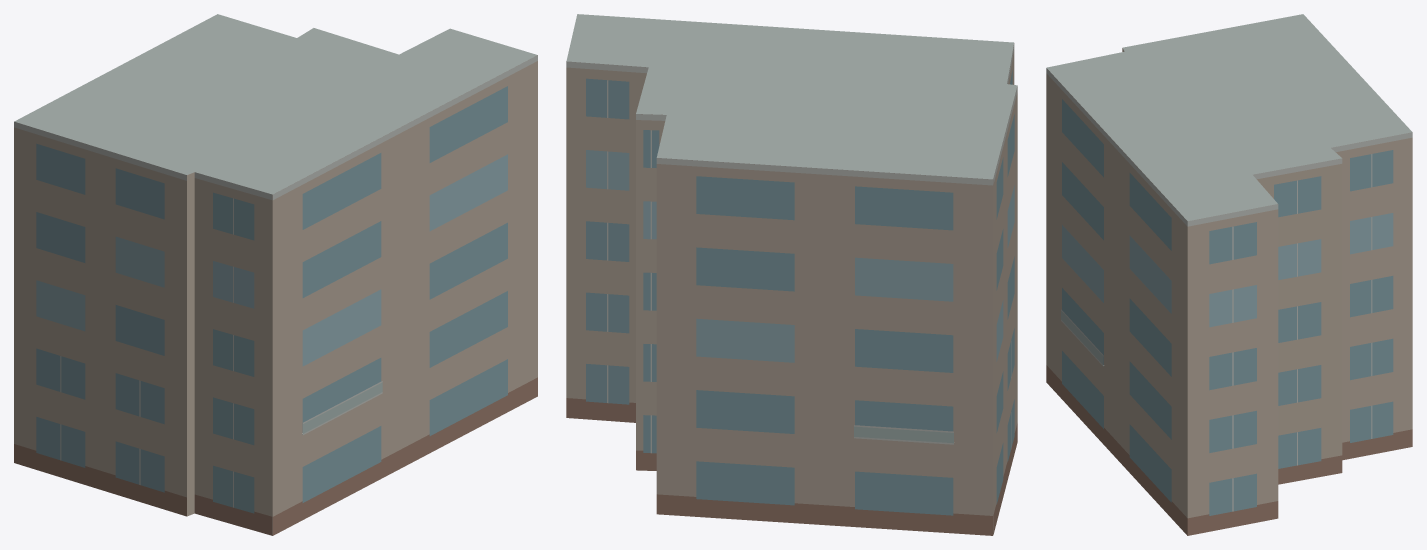
Rendered from survey-upis-32823652.glb.
3 views of the same model, side by side, from view 1: azimuth 30°, elevation 25°; view 2: azimuth 150°, elevation 25°; view 3: azimuth 270°, elevation 25° (orthographic). The views are drawn at different scales.
Visible parts, largest first — view 1: survey-upis-32823652.tmp; view 2: survey-upis-32823652.tmp; view 3: survey-upis-32823652.tmp.
Boxes of the visible parts, left/top/right/bottom form: survey-upis-32823652.tmp: left=14, top=14, right=537, bottom=535; survey-upis-32823652.tmp: left=566, top=14, right=1017, bottom=535; survey-upis-32823652.tmp: left=1046, top=14, right=1412, bottom=535.
Size of the model in its own units: 20.22 by 14.3 by 15.1.
